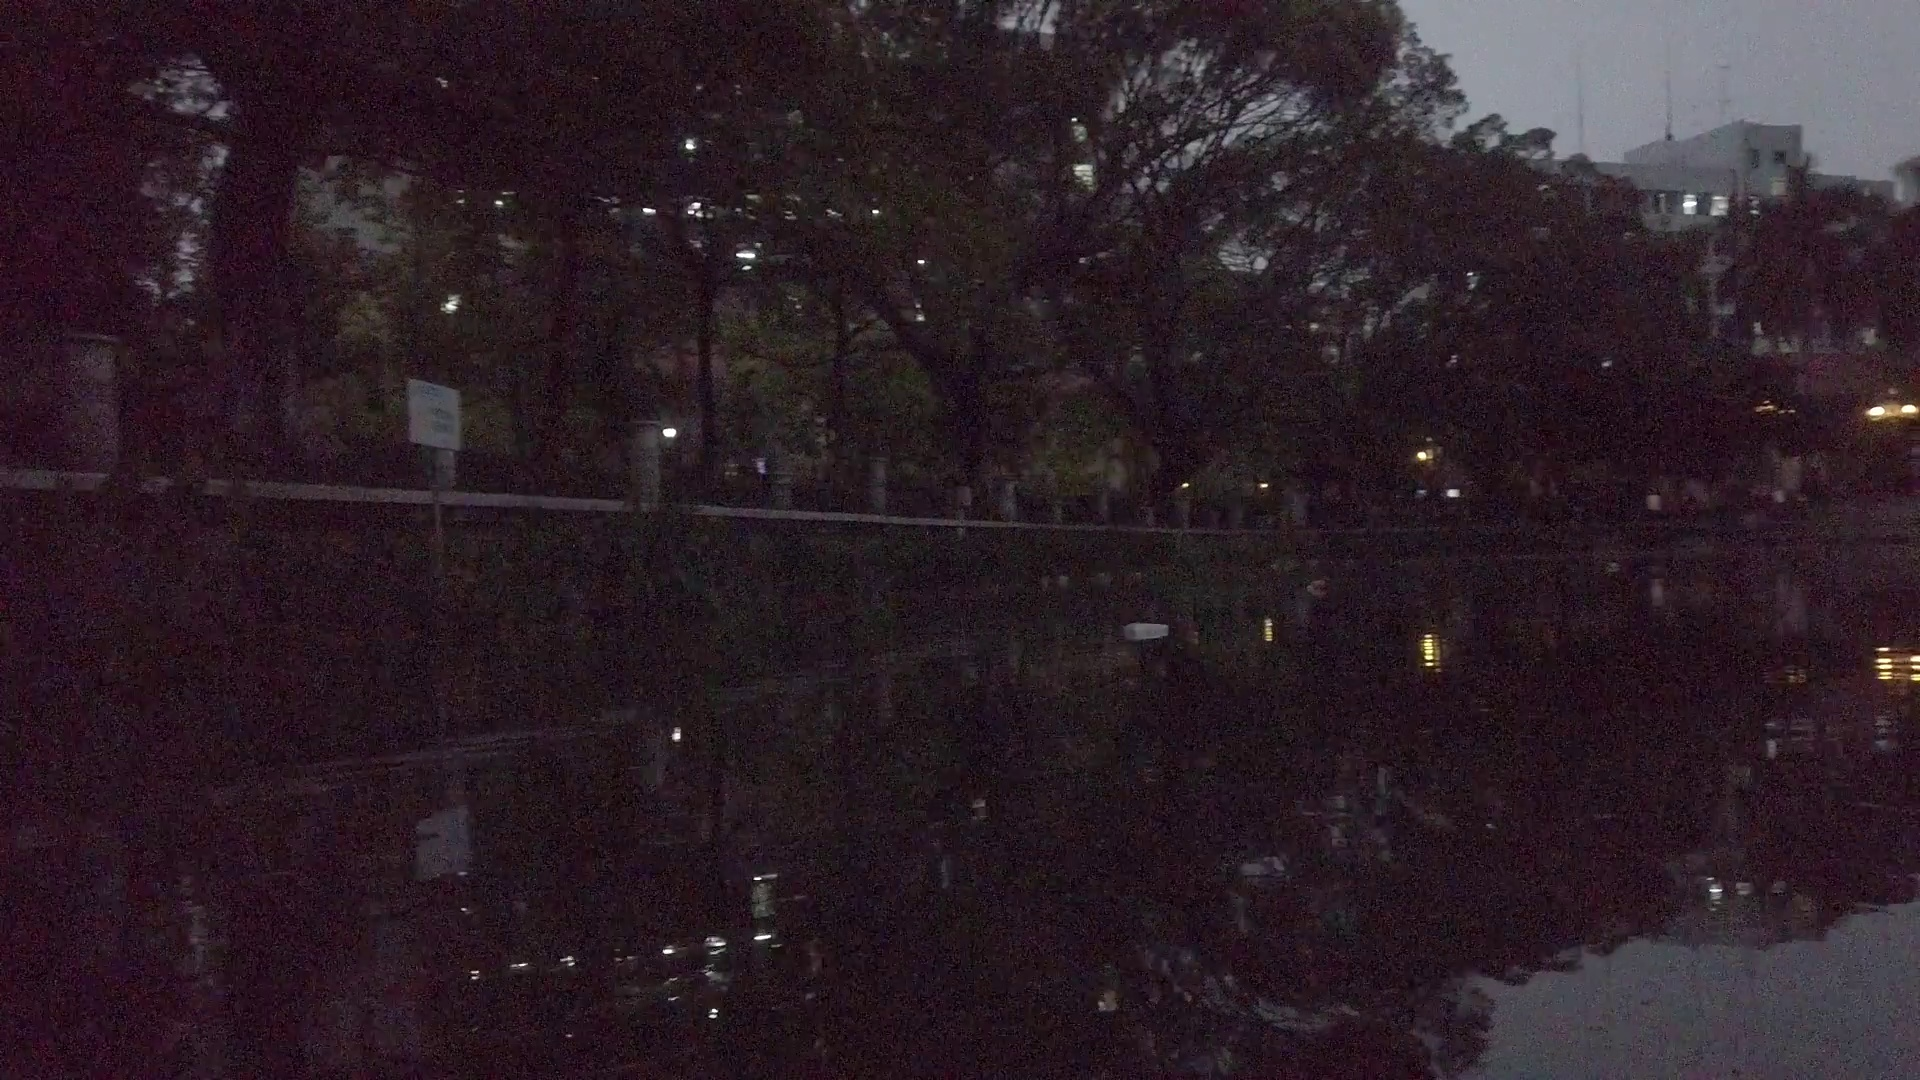bottle: (1304, 579, 1331, 593), (1605, 558, 1622, 572)
carton: (1121, 622, 1171, 640)
